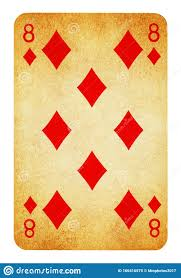eight of diamonds: (15, 12, 166, 249)
